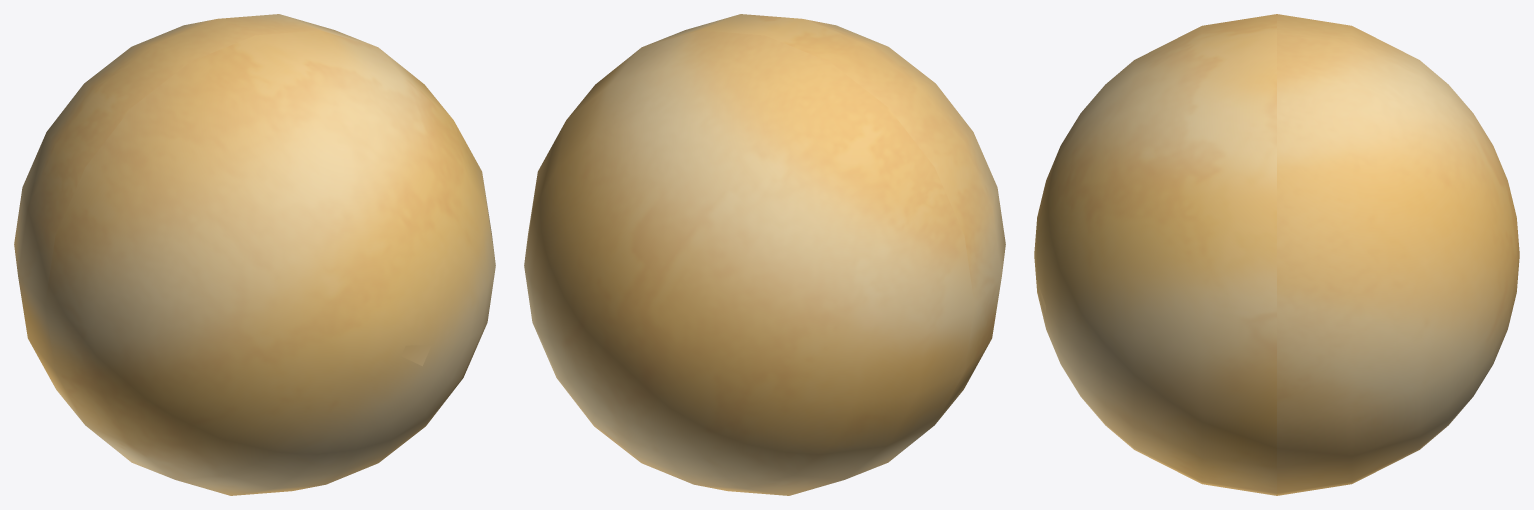
The model's file is Venus.glb.
3 views of the same model, side by side, from view 1: azimuth 30°, elevation 25°; view 2: azimuth 150°, elevation 25°; view 3: azimuth 270°, elevation 25° (orthographic).
Visible parts, largest first — view 1: Planeta; view 2: Planeta; view 3: Planeta.
Part boxes in pixels (bbox=[...]): Planeta: bbox=[14, 14, 495, 495]; Planeta: bbox=[524, 14, 1005, 495]; Planeta: bbox=[1034, 14, 1519, 495].
Bounding box in the file's own units: 0.1129 × 0.1129 × 0.1129.
1 material, 1 textured.
